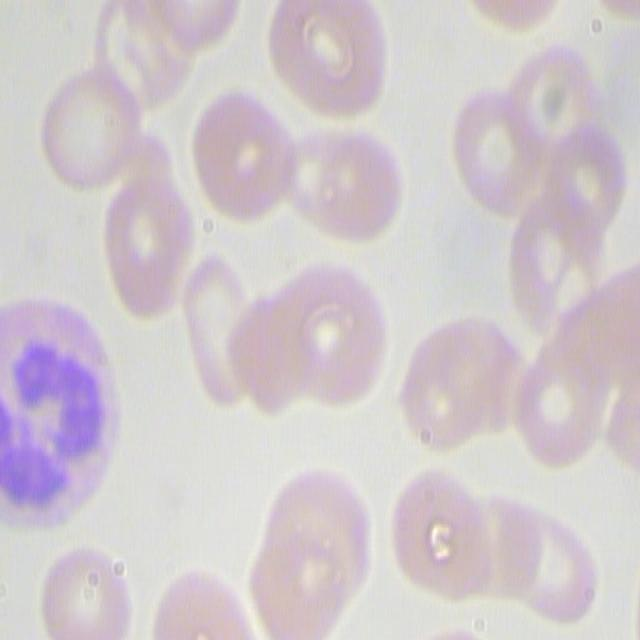RBC: (243, 460, 373, 638), (247, 256, 386, 422), (280, 103, 405, 250), (394, 310, 518, 453), (102, 144, 196, 325), (383, 462, 498, 607), (264, 2, 394, 128), (188, 84, 296, 234), (478, 494, 600, 626), (504, 196, 606, 340), (36, 70, 142, 204), (507, 339, 607, 474), (446, 89, 544, 224), (86, 1, 192, 119), (180, 248, 252, 414), (502, 40, 600, 160), (33, 541, 138, 638)
WBC: (5, 290, 152, 534)
